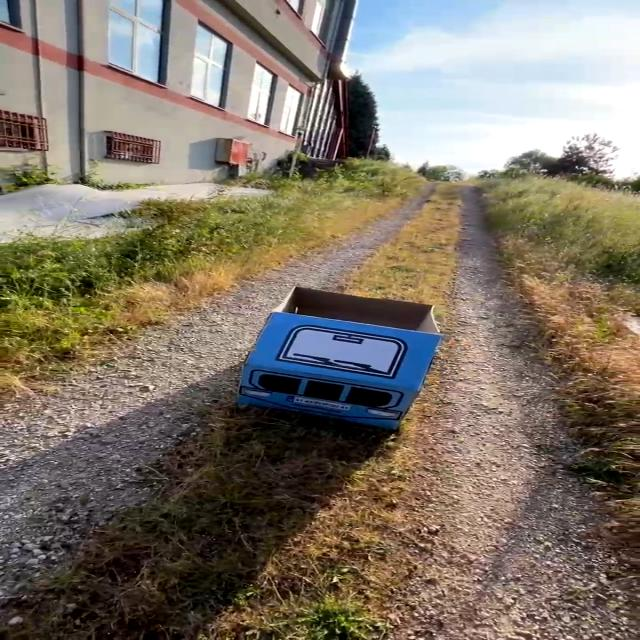blue_car: (169, 262, 471, 457)
